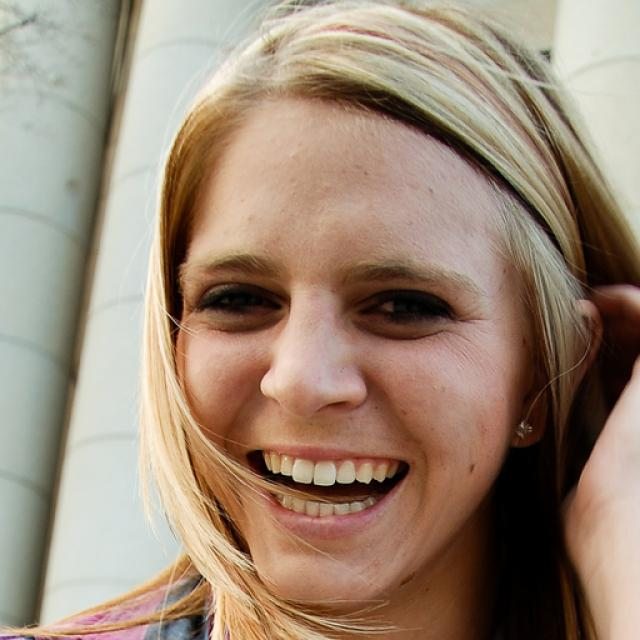Acne: (421, 179, 444, 206)
Dark Circle: (355, 314, 448, 340), (201, 310, 281, 331)
